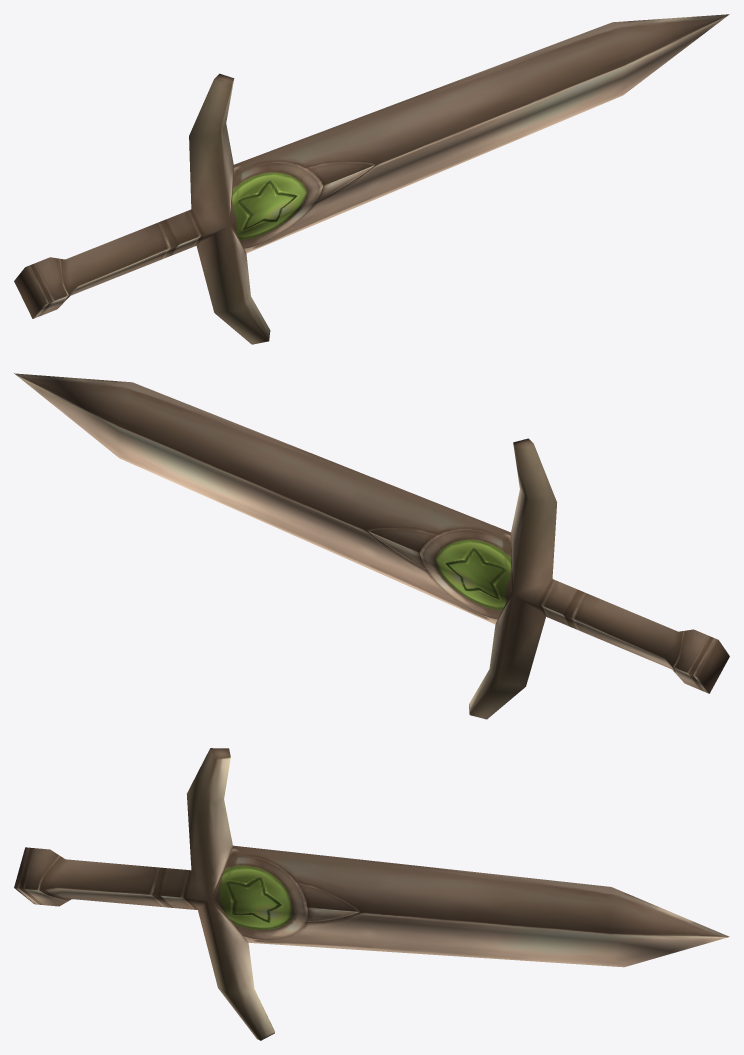
File: Sword(86).obj
3 views of the same model, one above another, from view 1: azimuth 30°, elevation 25°; view 2: azimuth 150°, elevation 25°; view 3: azimuth 330°, elevation 25° (orthographic).
Parts seen in each view (by area): view 1: sword1_LOD003; view 2: sword1_LOD003; view 3: sword1_LOD003.
Boxes of the visible parts, bbox=[...] form: sword1_LOD003: bbox=[14, 14, 729, 344]; sword1_LOD003: bbox=[14, 373, 729, 719]; sword1_LOD003: bbox=[14, 748, 729, 1040].
Size of the model in its own units: 1.36 by 0.5193 by 0.1038.
